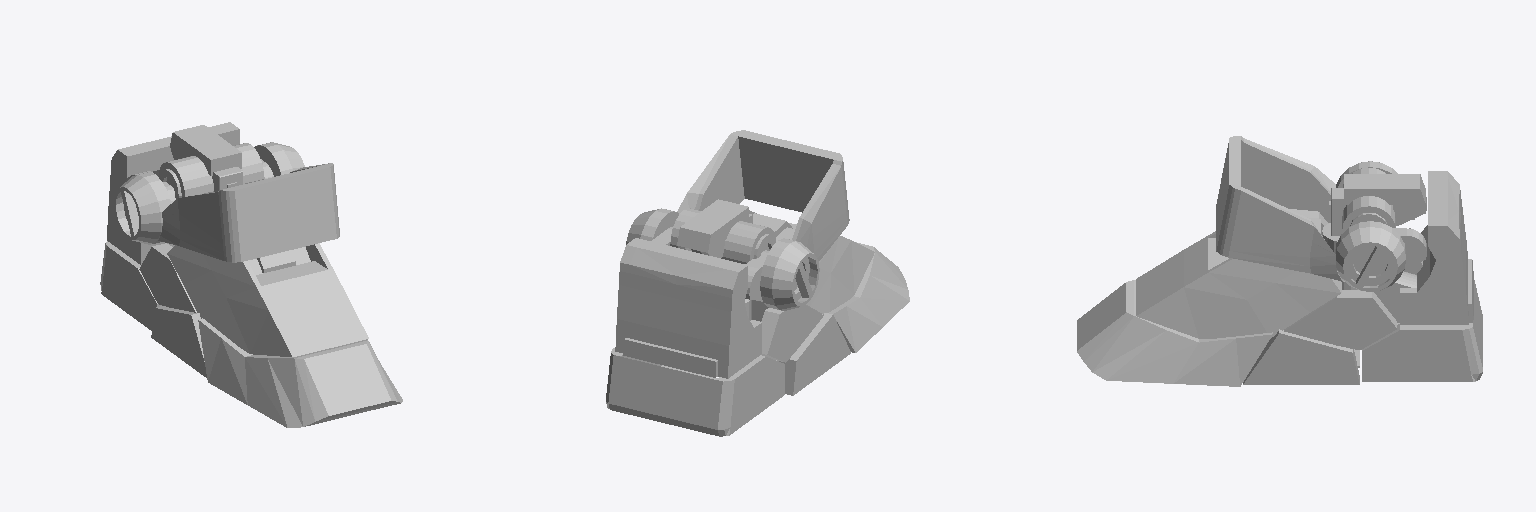
Rendered from leftfoot.obj.
3 views of the same model, side by side, from view 1: azimuth 30°, elevation 25°; view 2: azimuth 150°, elevation 25°; view 3: azimuth 270°, elevation 25° (orthographic).
Bounding box in the file's own units: 3.97 × 4.35 × 8.42.